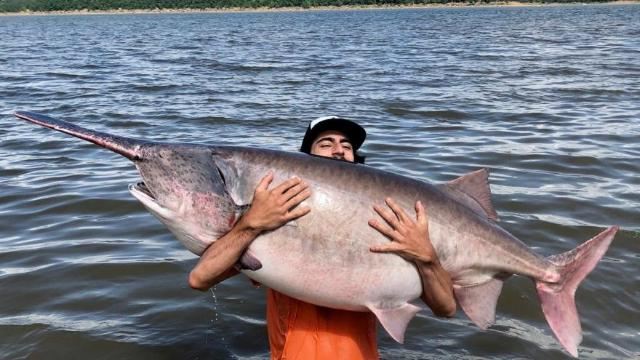Mulut: (108, 153, 168, 214)
Sirip Anal: (451, 263, 517, 341)
Sirip Ekor: (526, 217, 624, 360)
Sirip Perut: (365, 290, 425, 350)
Sirip Punggung: (442, 160, 504, 230)
